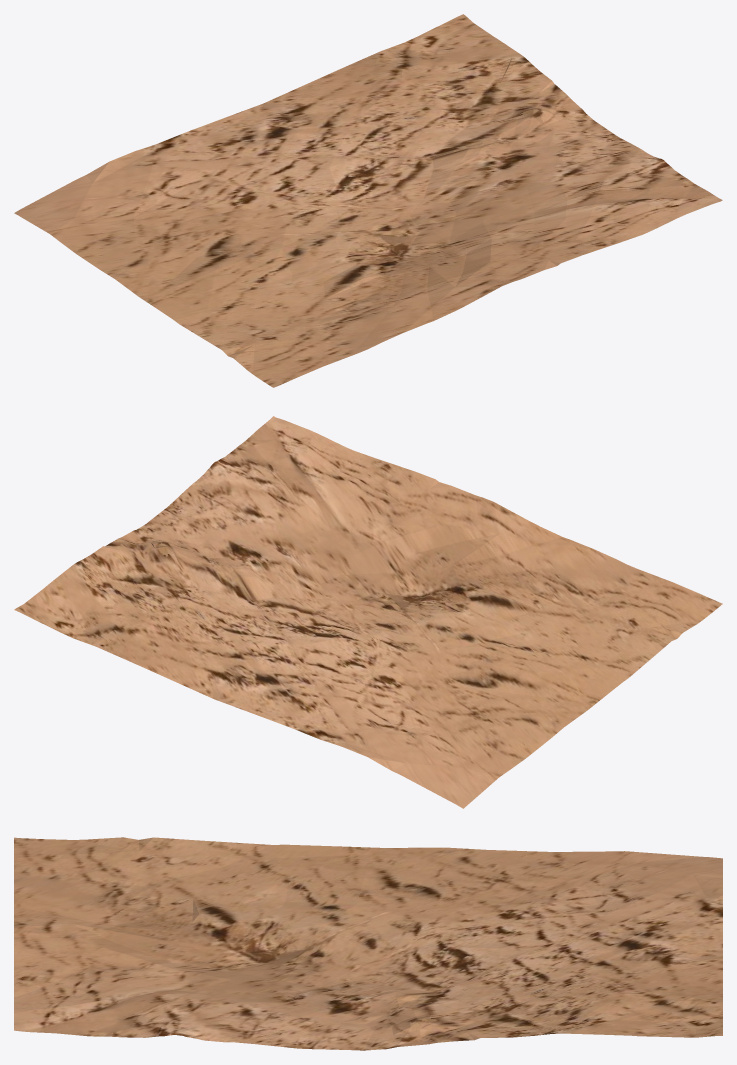
3 renders of one model, top to bottom at view 1: azimuth 30°, elevation 25°; view 2: azimuth 150°, elevation 25°; view 3: azimuth 270°, elevation 25°, orthographic. The views are drawn at different scales.
Bounding box in the file's own units: 1.04 × 0.207 × 1.04.
Materials: 2 (2 with a texture image).
